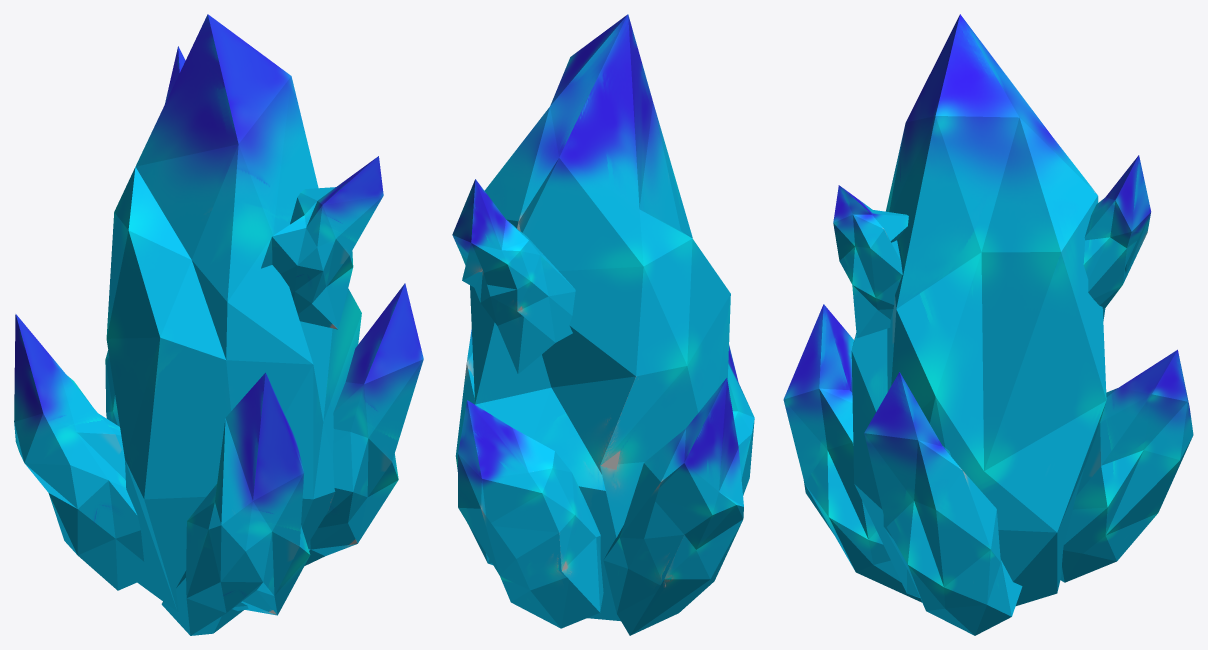
The model's file is Shard_2.fbx.
3 views of the same model, side by side, from view 1: azimuth 30°, elevation 25°; view 2: azimuth 150°, elevation 25°; view 3: azimuth 270°, elevation 25° (orthographic). The views are drawn at different scales.
Parts seen in each view (by area): view 1: Icosphere; view 2: Icosphere; view 3: Icosphere.
Part boxes in pixels (bbox=[...]): Icosphere: bbox=[14, 14, 423, 635]; Icosphere: bbox=[452, 14, 754, 635]; Icosphere: bbox=[783, 14, 1193, 635].
Size of the model in its own units: 244 by 436 by 273.
Materials: 1 (1 with a texture image).
